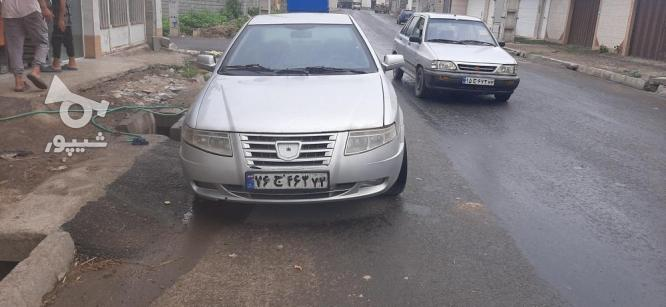car: (242, 167, 331, 190), (464, 76, 495, 86)
